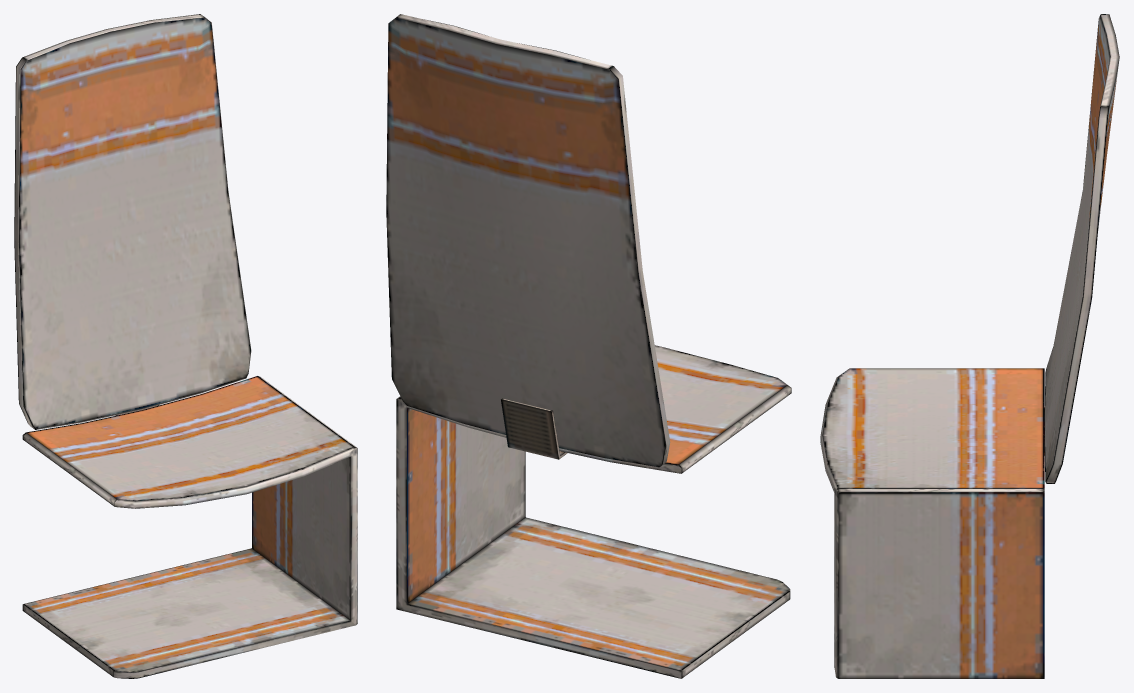
Rendered from frn_all_chair_kitchen_s1_l0.fbx.
3 views of the same model, side by side, from view 1: azimuth 30°, elevation 25°; view 2: azimuth 150°, elevation 25°; view 3: azimuth 270°, elevation 25° (orthographic). The views are drawn at different scales.
Parts seen in each view (by area): view 1: mesh_node; view 2: mesh_node; view 3: mesh_node.
Part boxes in pixels (box(x1,y1,x2,y2)): mesh_node: box(14, 14, 357, 678); mesh_node: box(386, 14, 791, 678); mesh_node: box(820, 14, 1119, 678).
Bounding box in the file's own units: 0.56 × 1.19 × 0.5738.
